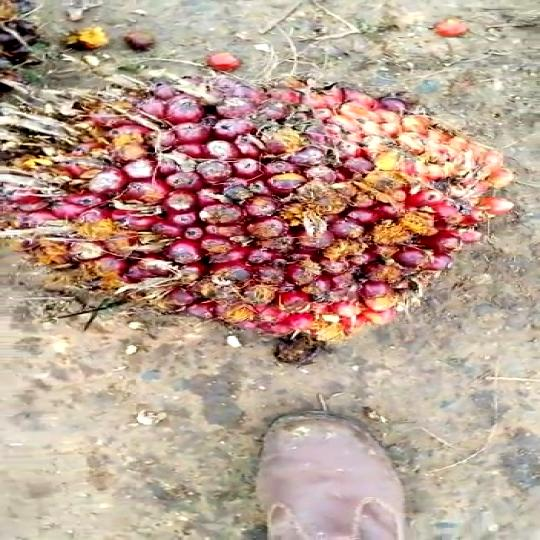masak: (0, 76, 520, 371)
